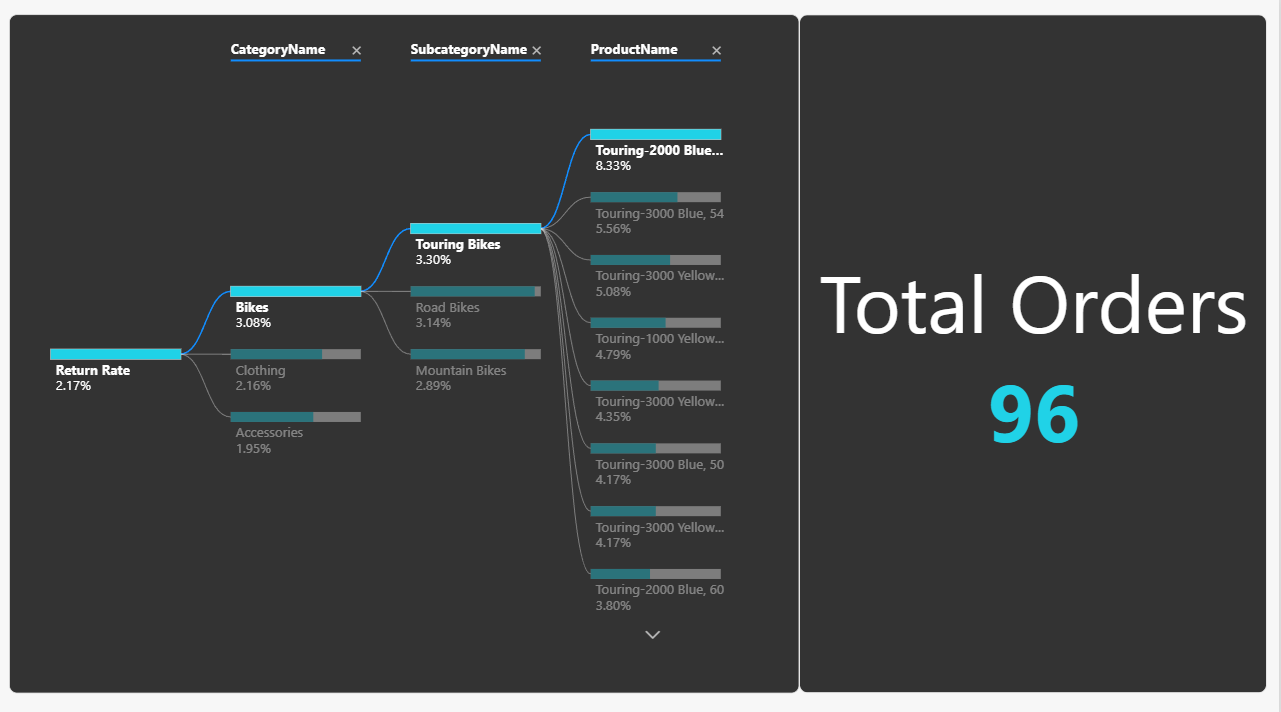

The dashboard page shown, as its layout file describes it:
{"tool":"powerbi","page":{"name":"AI - Decomposition Tree","canvas":[1280,720],"ordinal":7},"visuals":[{"type":"cardVisual","fields":{"Data":["Measure Table.Total Orders"]},"box":[799.9,15.7,468.1,679.2],"z":1000},{"type":"decompositionTreeVisual","fields":{"Analyze":["Measure Table.Return Rate"],"ExplainBy":["Product Categories Lookup.CategoryName","Product Subcategories Lookup.SubcategoryName","Product Lookup.ProductName"]},"box":[9.7,15.7,790.2,679.2],"z":1001}]}

Visuals, with their boxes in screenshot pixels (x1, y1, x2, y2), scaled from the page's 1280x720 canvas onto the 1281x712 screenshot:
cardVisual - Measure Table.Total Orders: 801,16,1269,687
decompositionTreeVisual - Measure Table.Return Rate x Product Categories Lookup.CategoryName: 10,16,801,687
